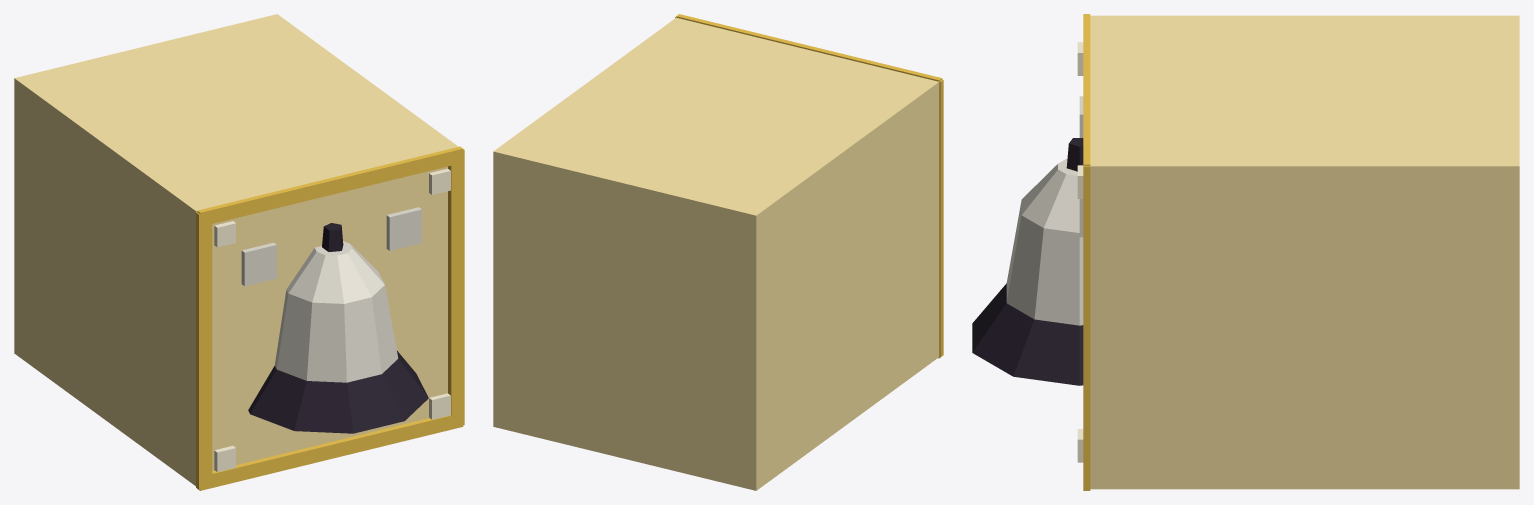
The model's file is block-rich.glb.
The picture shows the model from 3 angles, left to right: view 1: azimuth 30°, elevation 25°; view 2: azimuth 150°, elevation 25°; view 3: azimuth 270°, elevation 25°; orthographic projection. The views are drawn at different scales.
Visible parts, largest first — view 1: Model; view 2: Model; view 3: Model.
Part boxes in pixels (box(x1,y1,x2,y2)): Model: box(14, 14, 464, 490); Model: box(493, 14, 943, 490); Model: box(972, 14, 1519, 490).
Size of the model in its own units: 0.99 by 0.99 by 1.5.
1 material, 1 textured.
